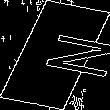N_W: (8, 28, 102, 82)
